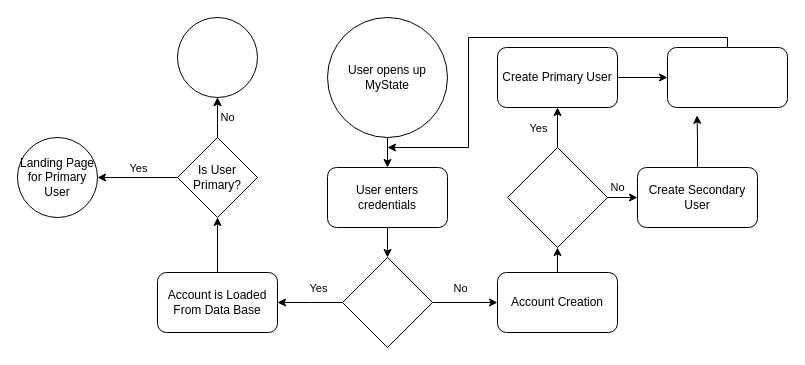
Image size: 805x365. Some labels were removed from this diagram. Here are the shapes that lost their labels. From the top down, the box of each, then its label:
(176, 16, 258, 98): Landing Page for Secondary User
(666, 46, 788, 108): Add User to Database
(506, 146, 608, 248): Is User World Leader?
(342, 256, 432, 348): Valid Credentials?
